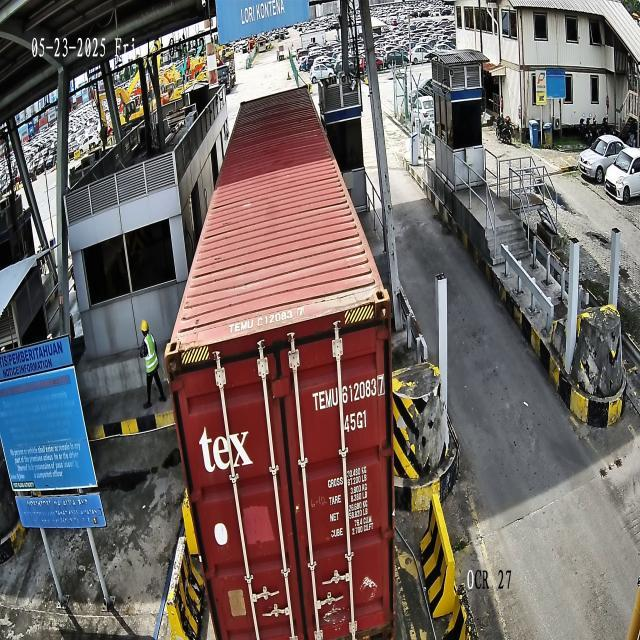ISO: (343, 408, 367, 433)
container_number: (311, 373, 385, 413)
